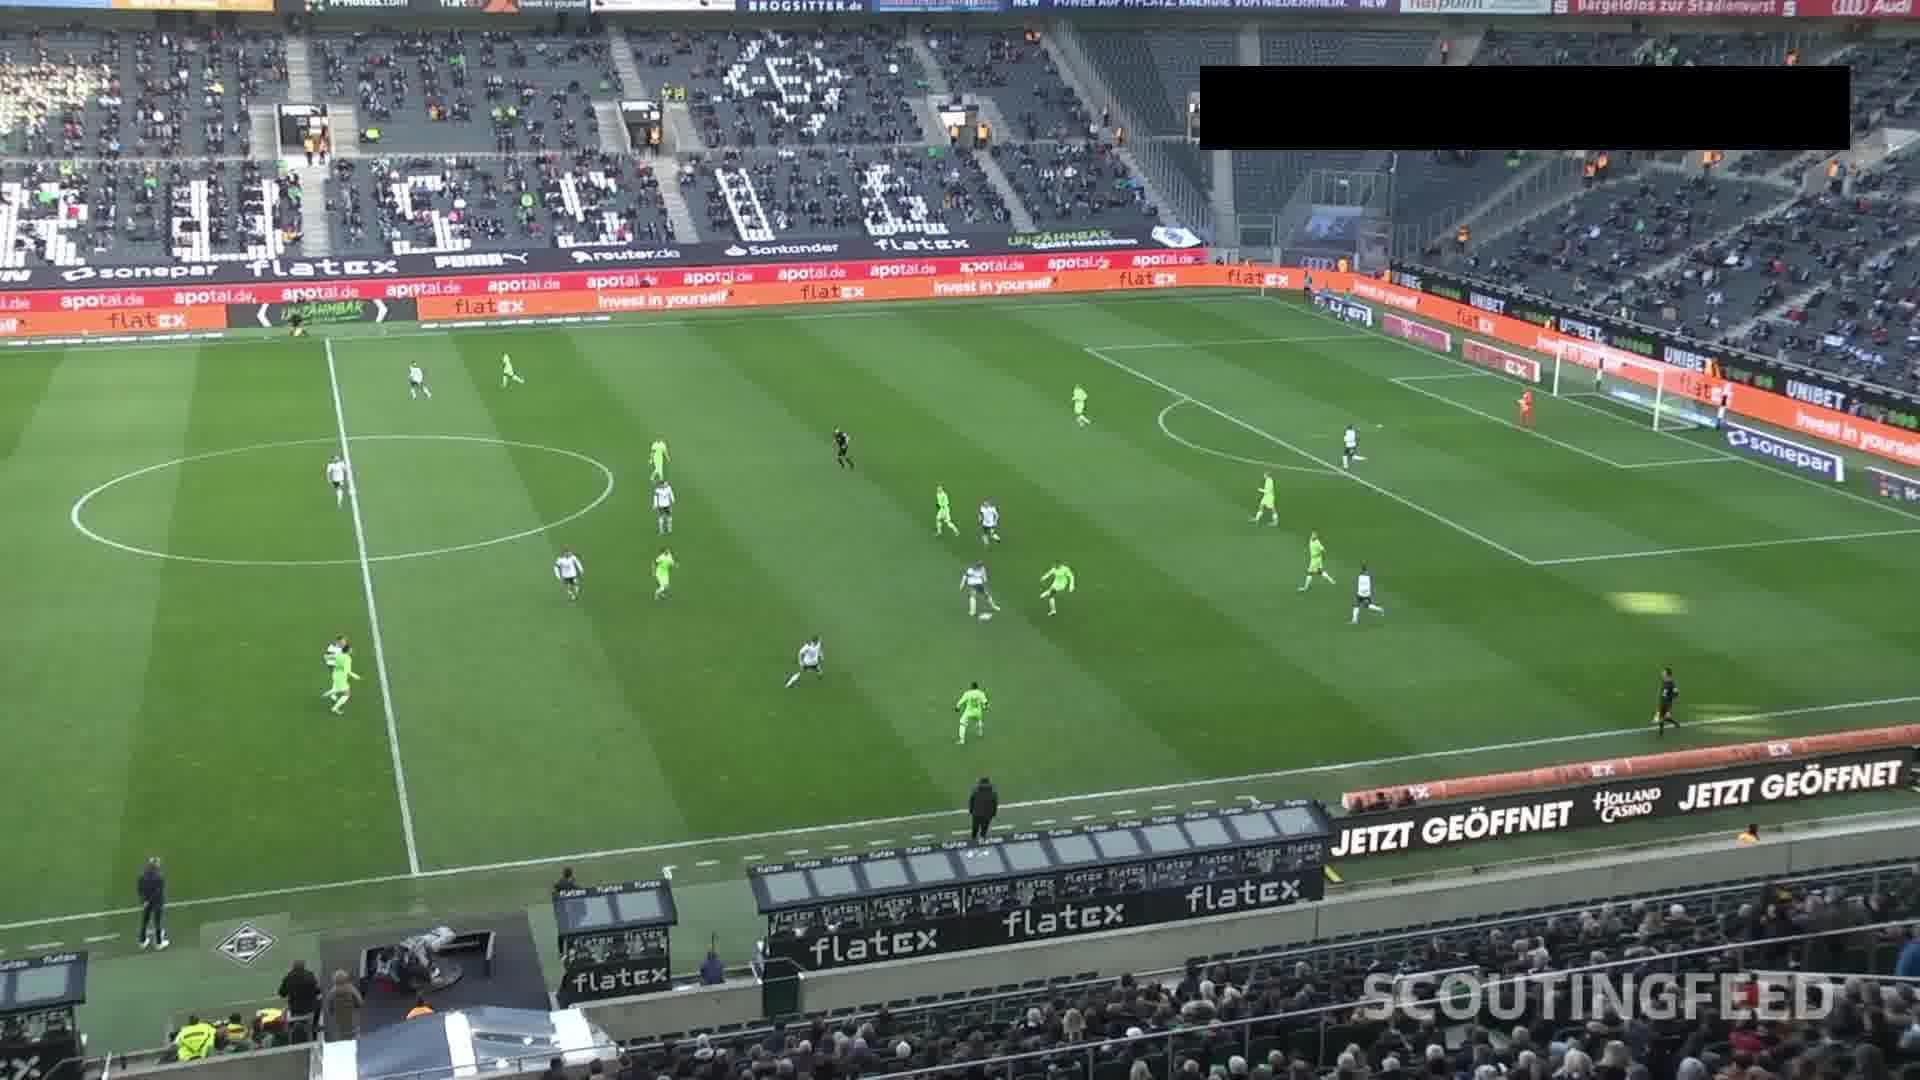football: (977, 611, 994, 626)
